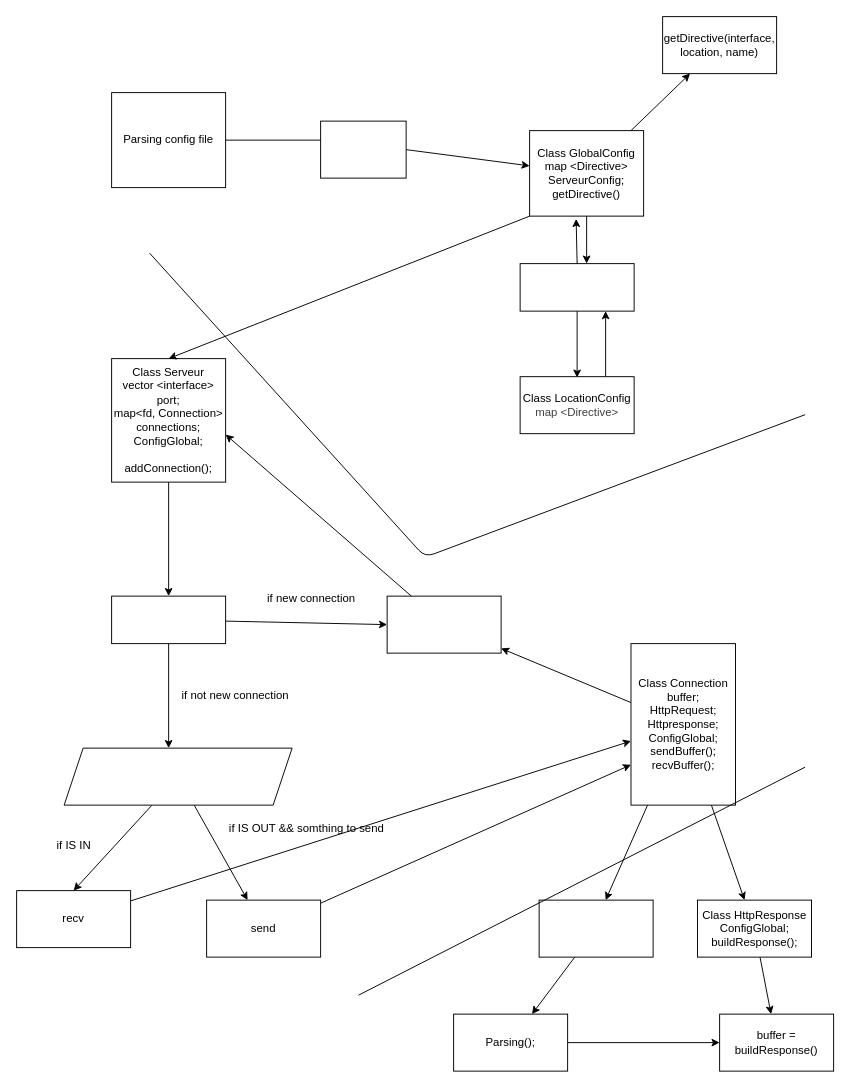
Some shapes in this 850 by 1088 pixel diagram are drawn without their labels. Each missing label, with the centre of its shape:
Abstract Config: [363,149]
Add Connection: [443,624]
Class HttpRequest ConfigGlobal; Parsing();: [595,928]
Class ServeurConfig map <Directive> LocationConfig;: [576,287]
Connection = Serveur::map<fd, Connection>;: [177,776]
while (1) pool: [168,619]
